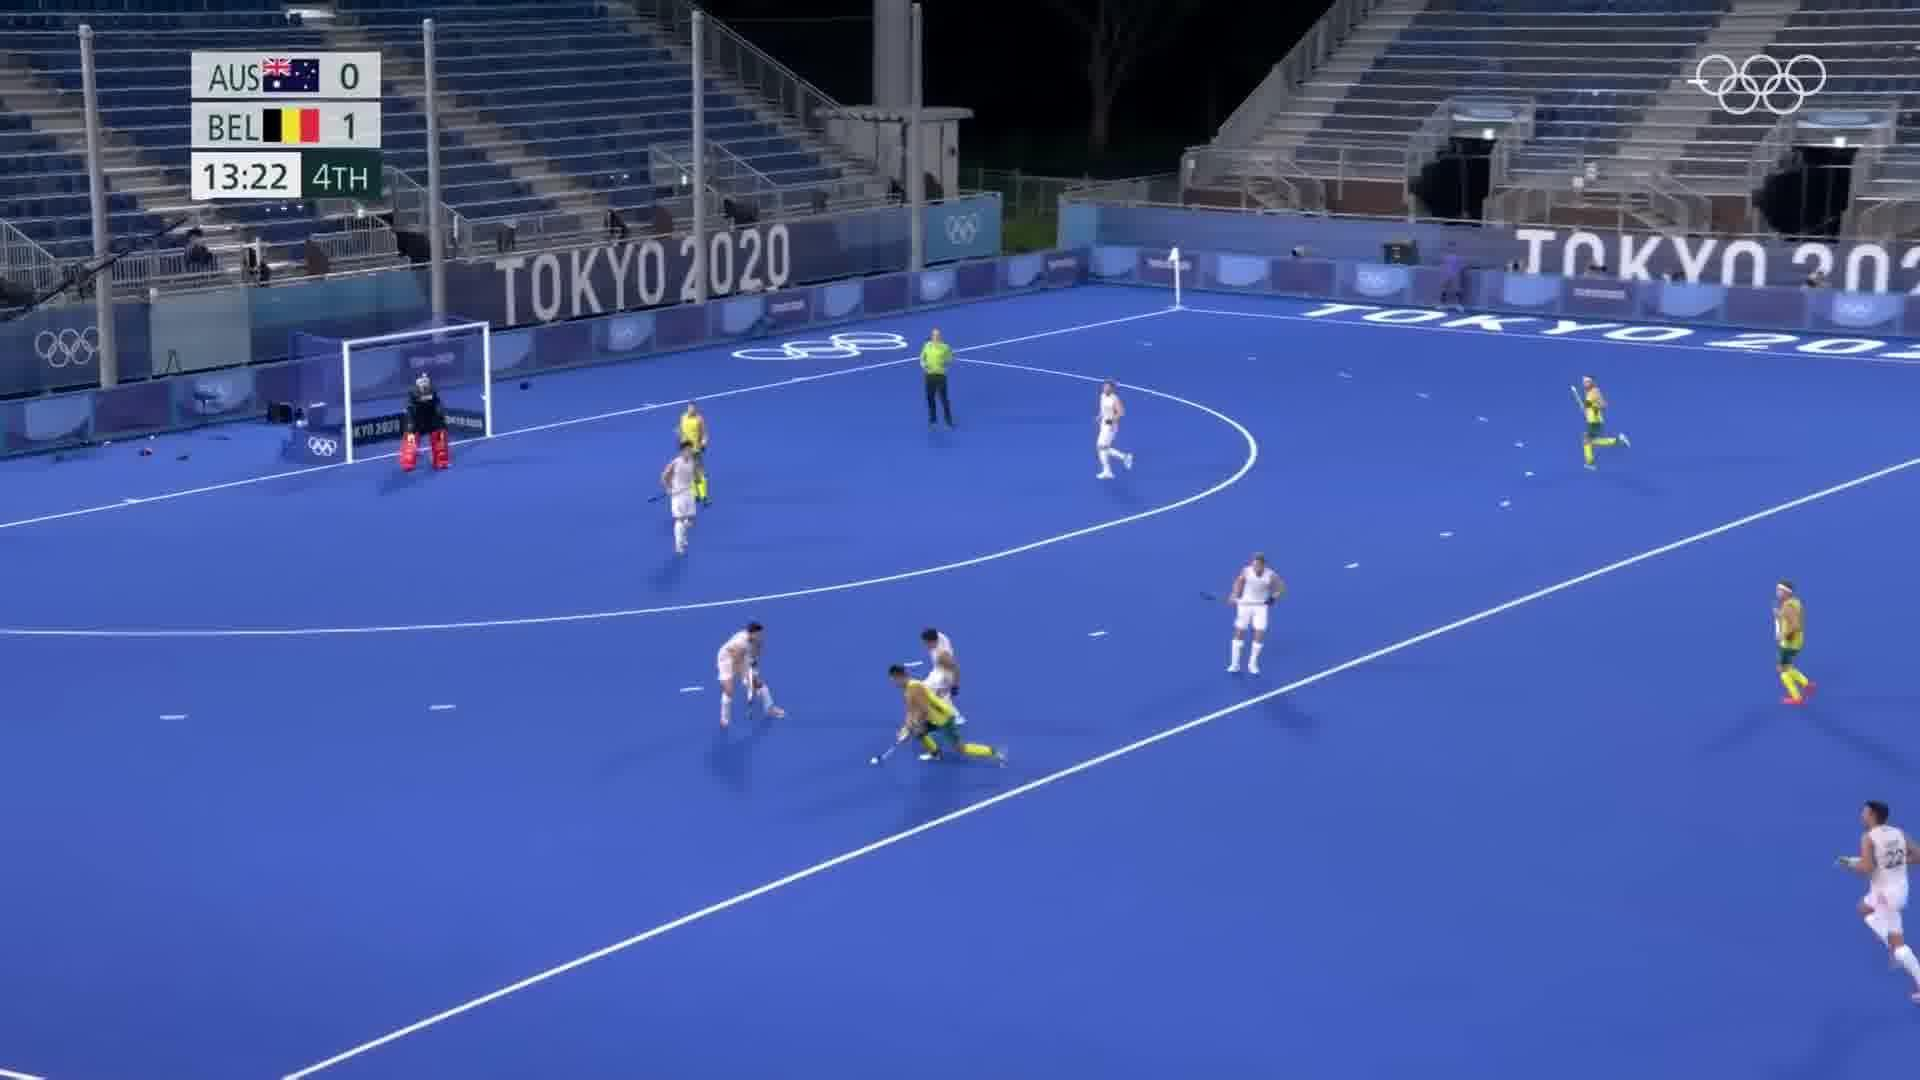ball: (865, 755, 885, 772)
